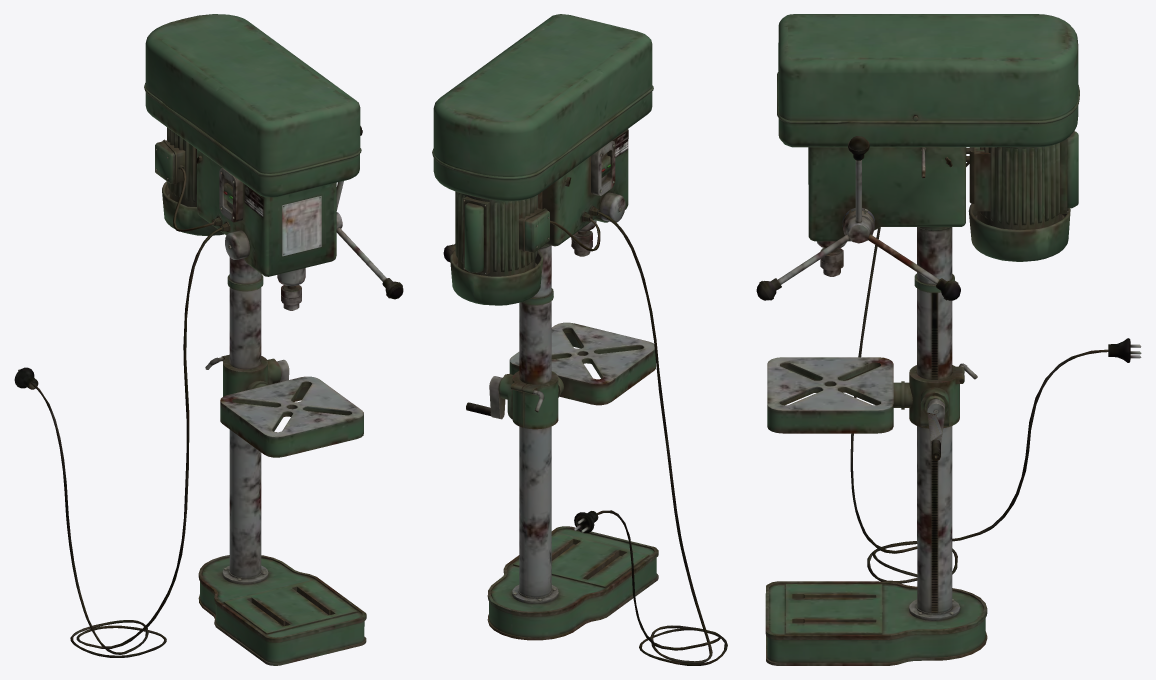
File: old_drill_press.glb
3 views of the same model, side by side, from view 1: azimuth 30°, elevation 25°; view 2: azimuth 150°, elevation 25°; view 3: azimuth 270°, elevation 25° (orthographic). The views are drawn at different scales.
Parts seen in each view (by area): view 1: old_drill_press_cable; view 2: old_drill_press_cable; view 3: old_drill_press_cable.
Boxes of the visible parts, x1,y1,x2,y2 form: old_drill_press_cable: [14, 14, 403, 665]; old_drill_press_cable: [432, 14, 727, 665]; old_drill_press_cable: [756, 14, 1141, 665].
Bounding box in the file's own units: 0.5269 × 1.05 × 0.6094.
Materials: 1 (1 with a texture image).
